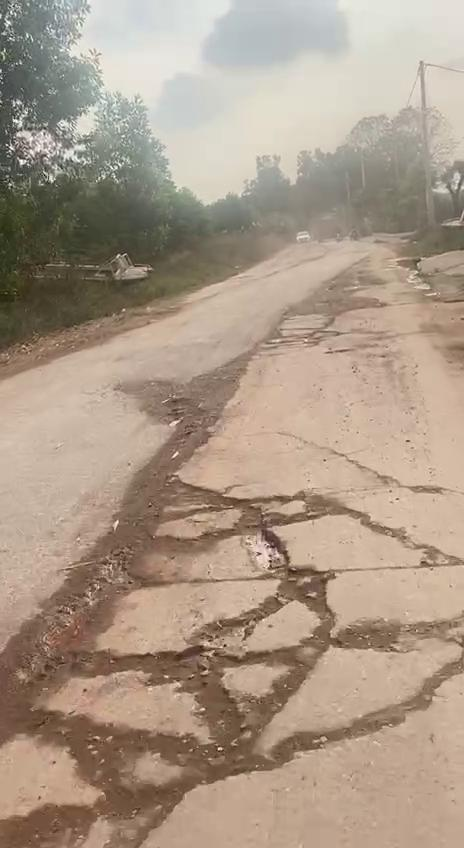pothole: (0, 465, 348, 848), (340, 530, 464, 700)
